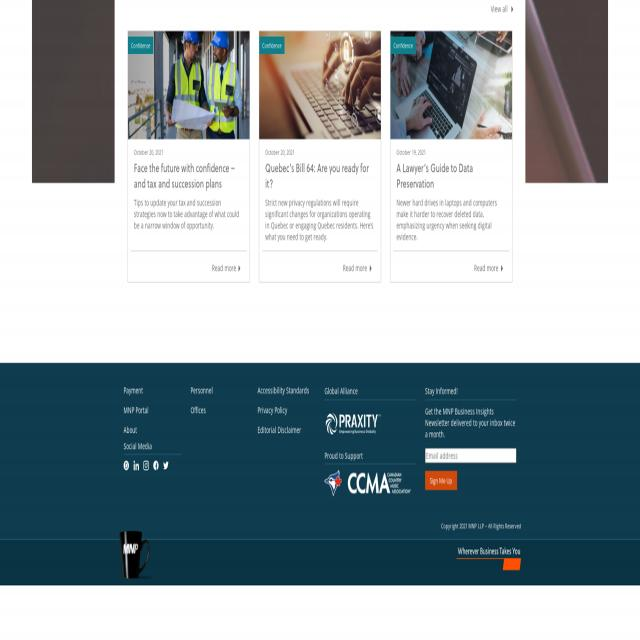button: (128, 31, 250, 139), (259, 31, 381, 139), (390, 31, 512, 139), (324, 464, 414, 510), (324, 409, 382, 436), (426, 472, 457, 491), (491, 4, 516, 15), (122, 460, 130, 472), (132, 460, 140, 472), (142, 460, 150, 472), (152, 460, 160, 472), (162, 460, 170, 472)
field: (426, 448, 516, 463)
